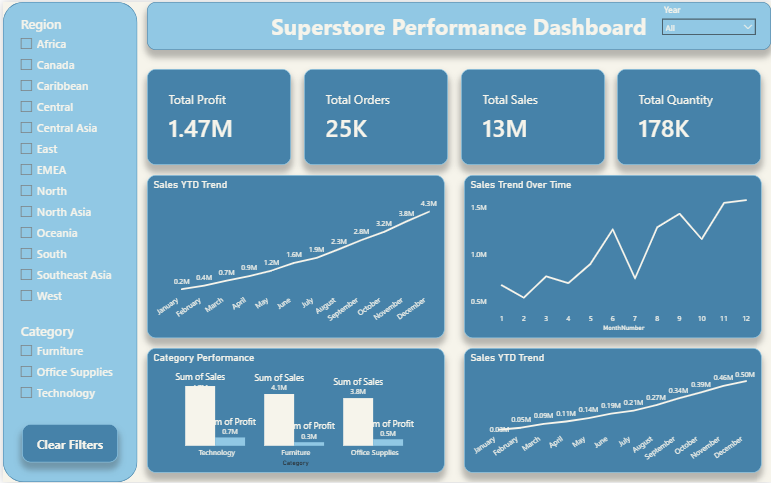

This screenshot's page, from the dashboard's own definition file:
{"tool":"powerbi","page":{"name":"Page 1","canvas":[1280,800],"ordinal":0},"visuals":[{"type":"textbox","box":[240,0,1040,80],"z":0},{"type":"cardVisual","title":"fefeg","fields":{"Data":["Measure.Total Sales"]},"box":[762.7,112,240,160],"z":1000},{"type":"cardVisual","title":"fefeg","fields":{"Data":["Measure.Total Quantity"]},"box":[1024,112,240,160],"z":2000},{"type":"cardVisual","title":"fefeg","fields":{"Data":["Measure.Total Orders"]},"box":[501.3,112,240,160],"z":3000},{"type":"shape","box":[0,0,224,800],"z":4000},{"type":"cardVisual","title":"fefeg","fields":{"Data":["Measure.Total Profit"]},"box":[240,112,240,160],"z":5000},{"type":"lineChart","title":"Sales YTD Trend","fields":{"Category":["Date.MonthName"],"Y":["Measure.Sales Year to Day"]},"box":[240,288,496,272],"z":6000},{"type":"slicer","fields":{"Values":["superstore.Region"]},"box":[16,16,224,512],"z":7000},{"type":"clusteredColumnChart","title":"Category Performance","fields":{"Category":["superstore.Category"],"Y":["Sum(superstore.Sales)","Sum(superstore.Profit)"]},"box":[240,576,496,208],"z":8000},{"type":"lineChart","title":"Sales Trend Over Time","fields":{"Y":["Sum(superstore.Sales)"],"Category":["Date.MonthNumber"]},"box":[768,288,496,272],"z":9000},{"type":"slicer","fields":{"Values":["superstore.Category"]},"box":[16,528,224,256],"z":10000},{"type":"slicer","fields":{"Values":["Date.Year"]},"box":[1088,0,176,80],"z":11000},{"type":"lineChart","title":"Sales YTD Trend","fields":{"Category":["Date.MonthName"],"Y":["Measure.Profit Year to day"]},"box":[768,576,496,208],"z":12000},{"type":"actionButton","title":"Clear Filters","box":[32,704,160,64],"z":13000}]}

Visuals, with their boxes in screenshot pixels (x1, y1, x2, y2), scaled from the page's 1280x800 canvas onto the 771x483 screenshot:
textbox: <bbox>145, 0, 770, 48</bbox>
"fefeg" cardVisual: <bbox>459, 68, 604, 164</bbox>
"fefeg" cardVisual: <bbox>617, 68, 761, 164</bbox>
"fefeg" cardVisual: <bbox>302, 68, 447, 164</bbox>
shape: <bbox>0, 0, 135, 482</bbox>
"fefeg" cardVisual: <bbox>145, 68, 289, 164</bbox>
"Sales YTD Trend" lineChart: <bbox>145, 174, 443, 338</bbox>
slicer - superstore.Region: <bbox>10, 10, 145, 319</bbox>
"Category Performance" clusteredColumnChart: <bbox>145, 348, 443, 473</bbox>
"Sales Trend Over Time" lineChart: <bbox>463, 174, 761, 338</bbox>
slicer - superstore.Category: <bbox>10, 319, 145, 473</bbox>
slicer - Date.Year: <bbox>655, 0, 761, 48</bbox>
"Sales YTD Trend" lineChart: <bbox>463, 348, 761, 473</bbox>
"Clear Filters" actionButton: <bbox>19, 425, 116, 464</bbox>
